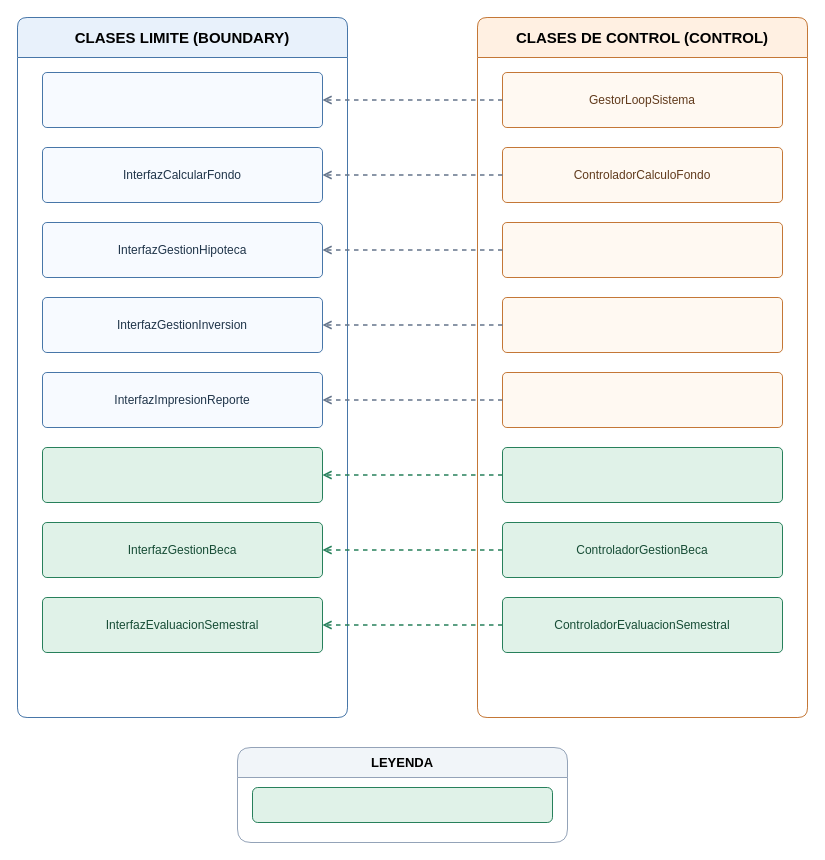
This 825x860 diagram has some shape labels left out. Each missing label, with the centre of its shape:
"Clases nuevas (Requerimiento 5)" goes at [402,804].
"ControladorAporteAnual" goes at [642,474].
"ControladorGenerarReporte" goes at [642,400].
"ControladorGestionHipoteca" goes at [642,250].
"ControladorGestionInversion" goes at [642,324].
"InterfazAporteAnual" goes at [182,474].
"PantallaMenuPrincipal" goes at [182,100].
